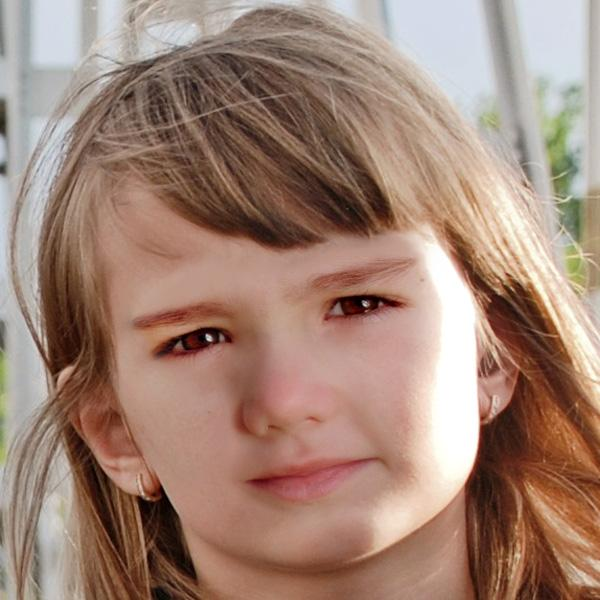Eyes: (313, 278, 413, 339), (148, 311, 241, 375)
